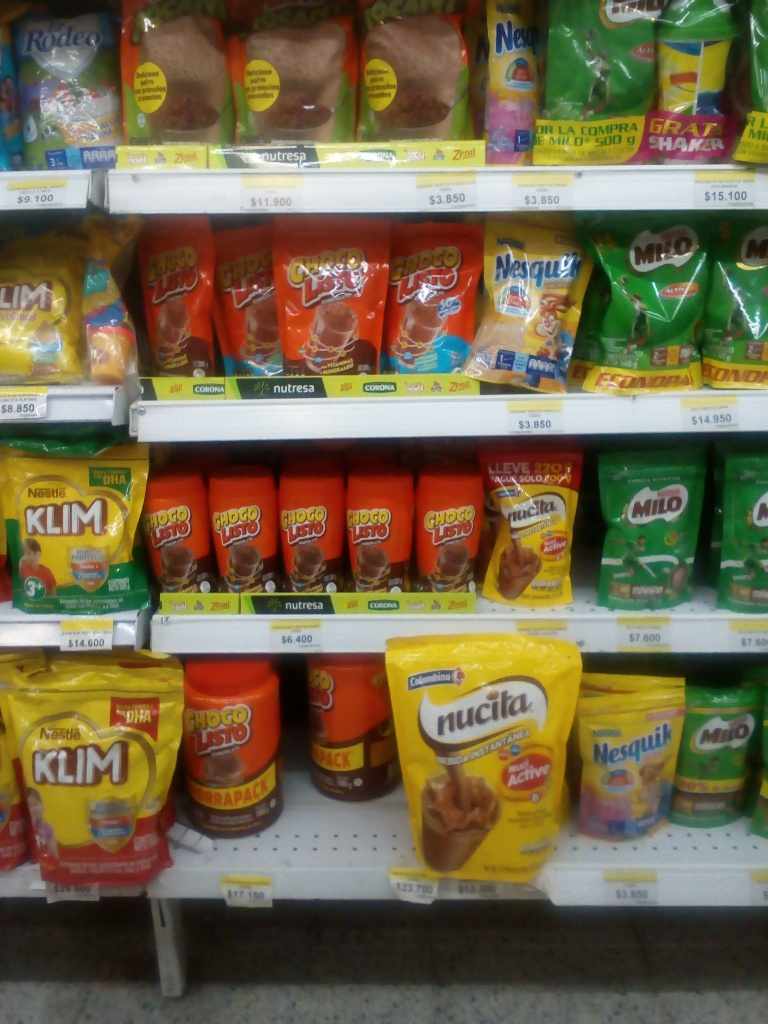COL0170102DYP50000: (114, 1, 235, 157)
COL0170103TRR00100: (176, 662, 280, 840)
COL0170103TRR30000: (139, 466, 209, 588)
COL0170104DYP20000: (208, 221, 281, 380)
COL0170203DYP25000: (589, 442, 698, 606)
COL0170203DYP50000: (537, 0, 650, 166)
COL0170305DYP20000: (567, 667, 675, 853)
COL0170306DYP20000: (477, 208, 597, 392)
